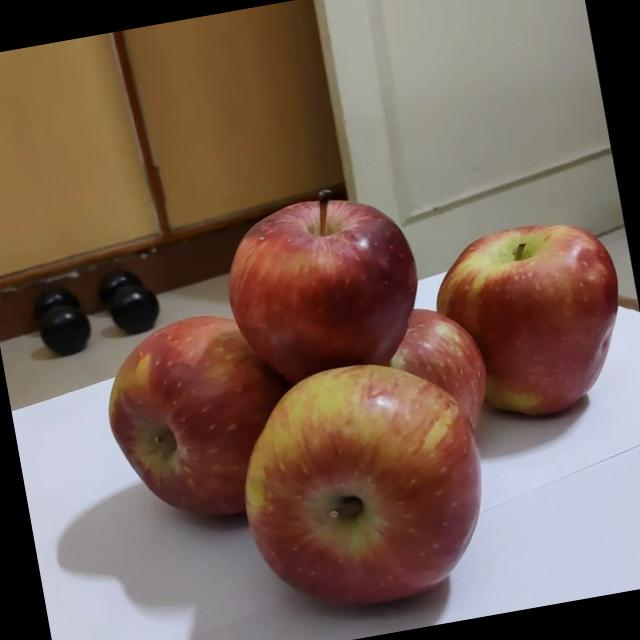apple: (216, 334, 506, 629), (85, 296, 319, 539), (417, 192, 640, 440), (208, 168, 434, 398)
